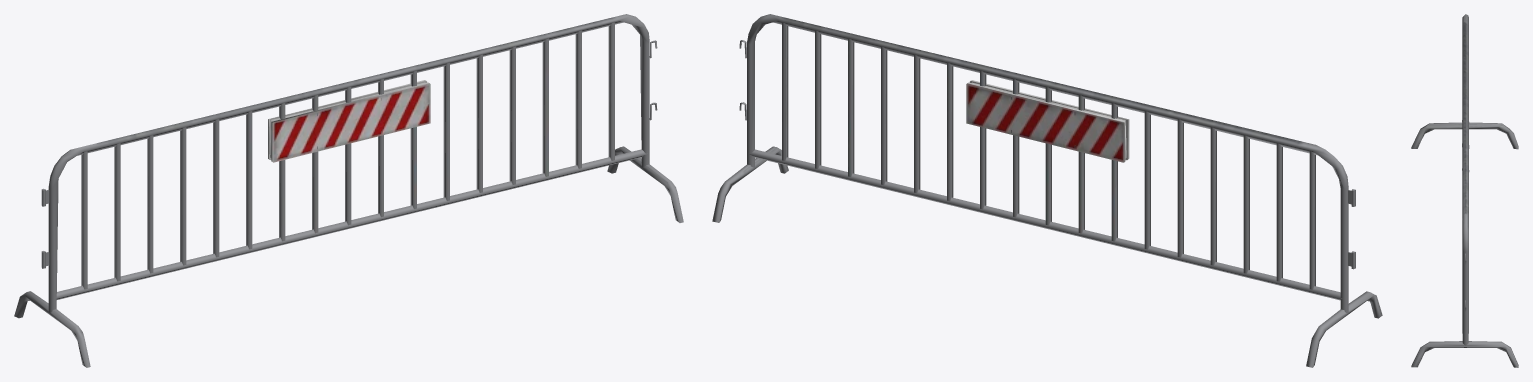
File: crowd-barrier.lod0.glb
3 renders of one model, left to right at view 1: azimuth 30°, elevation 25°; view 2: azimuth 150°, elevation 25°; view 3: azimuth 270°, elevation 25°, orthographic. The views are drawn at different scales.
Visible parts, largest first — view 1: METAL_BARRIER_BARRIER_0; view 2: METAL_BARRIER_BARRIER_0; view 3: METAL_BARRIER_BARRIER_0.
Boxes of the visible parts, left/top/right/bottom form: METAL_BARRIER_BARRIER_0: left=14, top=14, right=683, bottom=367; METAL_BARRIER_BARRIER_0: left=712, top=14, right=1382, bottom=367; METAL_BARRIER_BARRIER_0: left=1411, top=14, right=1518, bottom=367.
Bounding box in the file's own units: 3.58 × 1.05 × 0.7175.
Materials: 1 (1 with a texture image).
